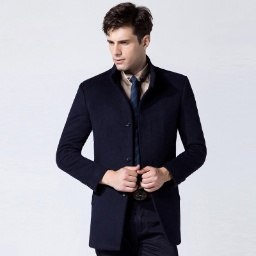face: (102, 2, 155, 73)
